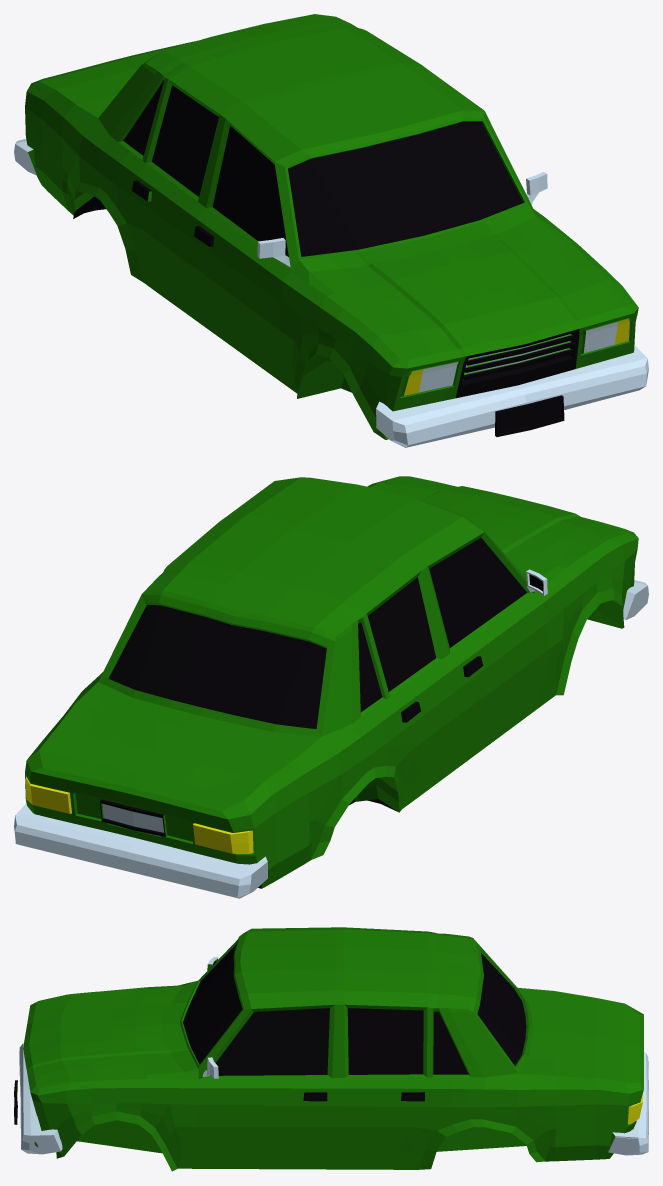
The model's file is vaz2107.fbx.
3 renders of one model, top to bottom at view 1: azimuth 30°, elevation 25°; view 2: azimuth 150°, elevation 25°; view 3: azimuth 270°, elevation 25°, orthographic. The views are drawn at different scales.
Parts seen in each view (by area): view 1: VAZ 2107; view 2: VAZ 2107; view 3: VAZ 2107.
Boxes of the visible parts, x1=… form: VAZ 2107: x1=14, y1=14, x2=648, y2=447; VAZ 2107: x1=14, y1=476, x2=648, y2=898; VAZ 2107: x1=14, y1=927, x2=648, y2=1171.
Bounding box in the file's own units: 413 × 284 × 1004.
